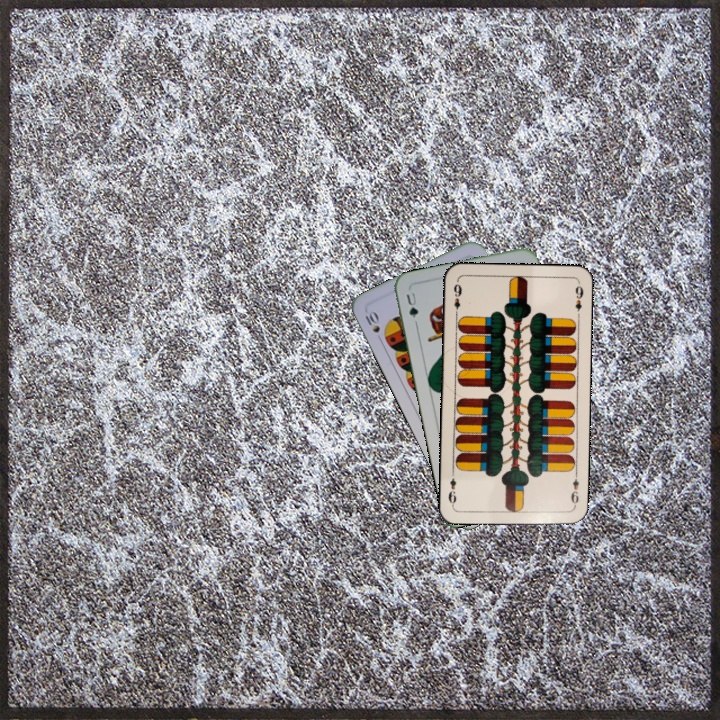E9: (567, 469, 582, 509), (449, 280, 464, 318)
GU: (402, 288, 421, 321)
S10: (360, 306, 383, 335)
